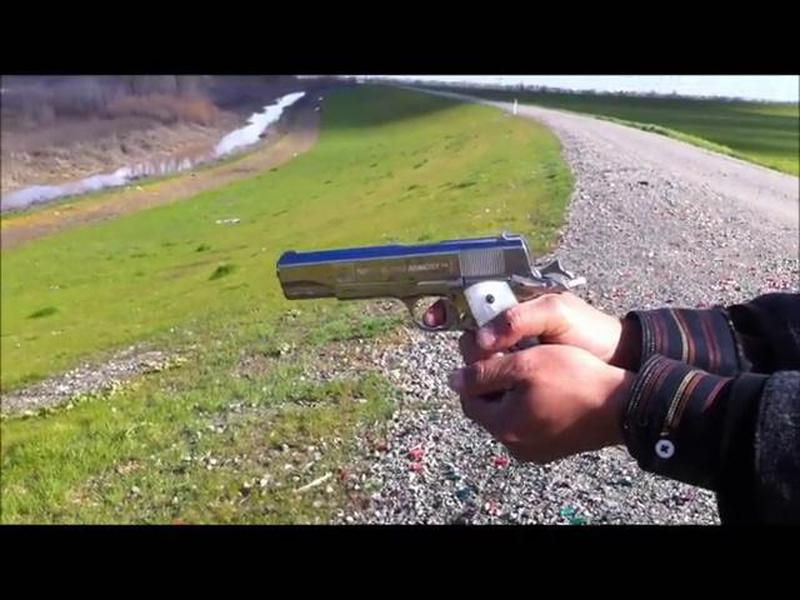Pistola: (263, 222, 596, 380)
